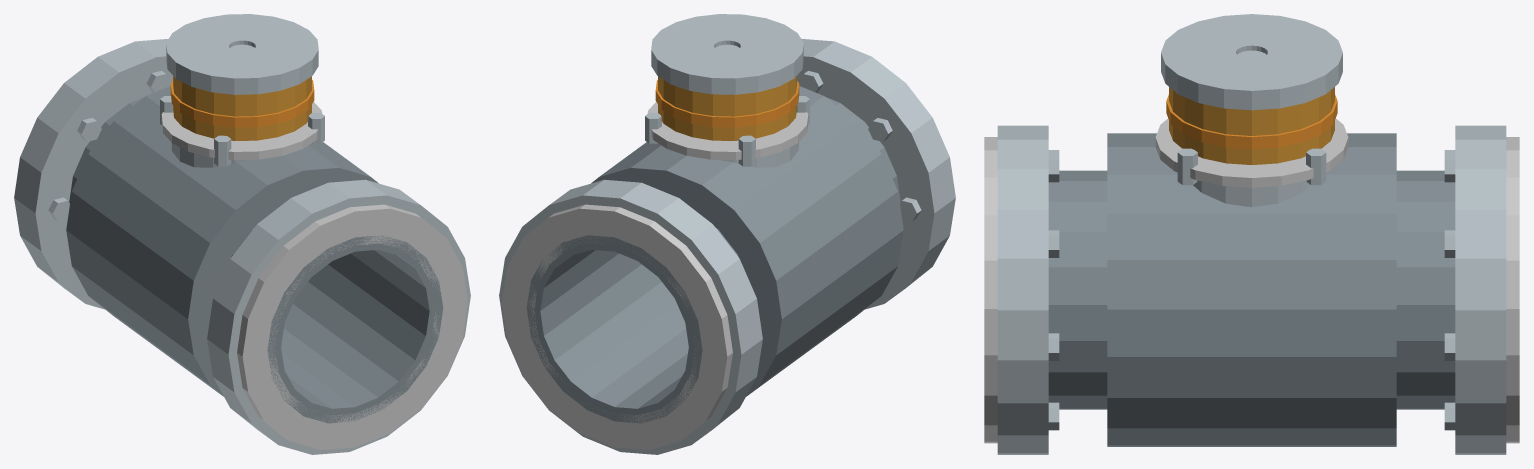
The model's file is body.obj.
3 views of the same model, side by side, from view 1: azimuth 30°, elevation 25°; view 2: azimuth 150°, elevation 25°; view 3: azimuth 270°, elevation 25° (orthographic). The views are drawn at different scales.
Size of the model in its own units: 0.62 by 0.8 by 1.
